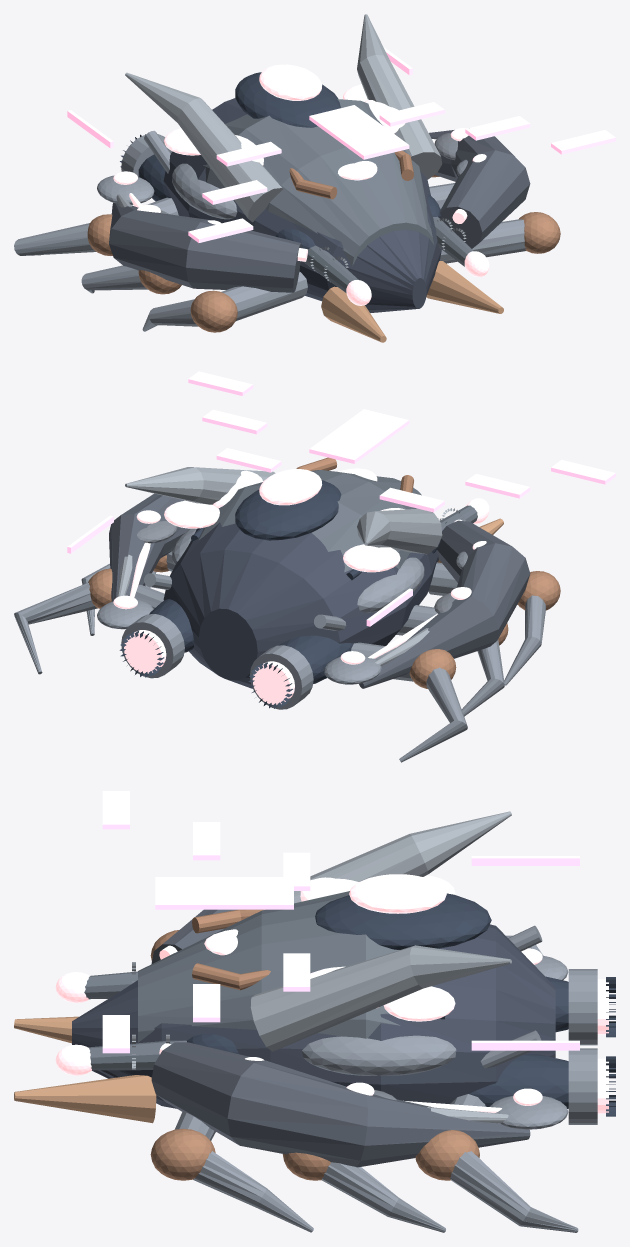
File: npc_bossLordakia.glb
3 renders of one model, top to bottom at view 1: azimuth 30°, elevation 25°; view 2: azimuth 150°, elevation 25°; view 3: azimuth 270°, elevation 25°, orthographic. The views are drawn at different scales.
Parts seen in each view (by area): view 1: upper_armor_scar, armored_scythe_-1, keel_pressure_hull, V59 trim baked, armored_scythe_1, prime_arch_back_-1, prime_arch_back_1, prime_reactor_tower, vrx_spider_leg_-1_0, vrx_spider_leg_-1_2, prime_secondary_horn_1, prime_emitter (+20 smaller); view 2: keel_pressure_hull, armored_scythe_-1, V59 trim baked, upper_armor_scar, prime_reactor_tower, armored_scythe_1, prime_arch_back_-1, prime_arch_back_1, vrx_spider_leg_1_2, vrx_spider_leg_-1_2, vrx_spider_leg_-1_0, vrx_spider_leg_-1_1 (+17 smaller); view 3: armored_scythe_1, keel_pressure_hull, upper_armor_scar, V59 trim baked, prime_arch_back_1, prime_reactor_tower, prime_arch_back_-1, heavy_shield_pad_1, prime_secondary_horn_1, vrx_spider_leg_1_2, vrx_spider_leg_1_0, prime_emitter (+24 smaller).
Boxes of the visible parts, bbox=[...] form: upper_armor_scar: bbox=[203, 99, 434, 266]; armored_scythe_-1: bbox=[109, 202, 301, 292]; keel_pressure_hull: bbox=[163, 98, 441, 312]; V59 trim baked: bbox=[67, 47, 615, 242]; armored_scythe_1: bbox=[429, 130, 530, 248]; prime_arch_back_-1: bbox=[125, 72, 282, 222]; prime_arch_back_1: bbox=[357, 14, 442, 179]; prime_reactor_tower: bbox=[235, 72, 340, 127]; vrx_spider_leg_-1_0: bbox=[142, 271, 307, 331]; vrx_spider_leg_-1_2: bbox=[14, 197, 178, 255]; prime_secondary_horn_1: bbox=[426, 261, 503, 313]; prime_emitter: bbox=[259, 64, 322, 100]; keel_pressure_hull: bbox=[163, 522, 438, 688]; armored_scythe_-1: bbox=[359, 520, 530, 688]; V59 trim baked: bbox=[67, 371, 615, 626]; upper_armor_scar: bbox=[198, 470, 432, 572]; prime_reactor_tower: bbox=[235, 480, 341, 540]; armored_scythe_1: bbox=[109, 493, 189, 601]; prime_arch_back_-1: bbox=[357, 508, 442, 554]; prime_arch_back_1: bbox=[125, 467, 275, 504]; vrx_spider_leg_1_2: bbox=[14, 583, 164, 674]; vrx_spider_leg_-1_2: bbox=[351, 642, 467, 762]; vrx_spider_leg_-1_0: bbox=[428, 562, 546, 685]; vrx_spider_leg_-1_1: bbox=[396, 605, 504, 716]; armored_scythe_1: bbox=[151, 1042, 530, 1167]; keel_pressure_hull: bbox=[72, 924, 555, 1108]; upper_armor_scar: bbox=[138, 891, 400, 1042]; V59 trim baked: bbox=[102, 791, 579, 1053]; prime_arch_back_1: bbox=[250, 945, 511, 1051]; prime_reactor_tower: bbox=[315, 893, 491, 949]; prime_arch_back_-1: bbox=[294, 811, 511, 903]; heavy_shield_pad_1: bbox=[302, 1035, 456, 1075]; prime_secondary_horn_1: bbox=[14, 1075, 156, 1123]; vrx_spider_leg_1_2: bbox=[450, 1094, 578, 1232]; vrx_spider_leg_1_0: bbox=[175, 1112, 313, 1232]; prime_emitter: bbox=[349, 874, 446, 913].
Bounding box in the file's own units: 3.65 × 1.46 × 3.32.
